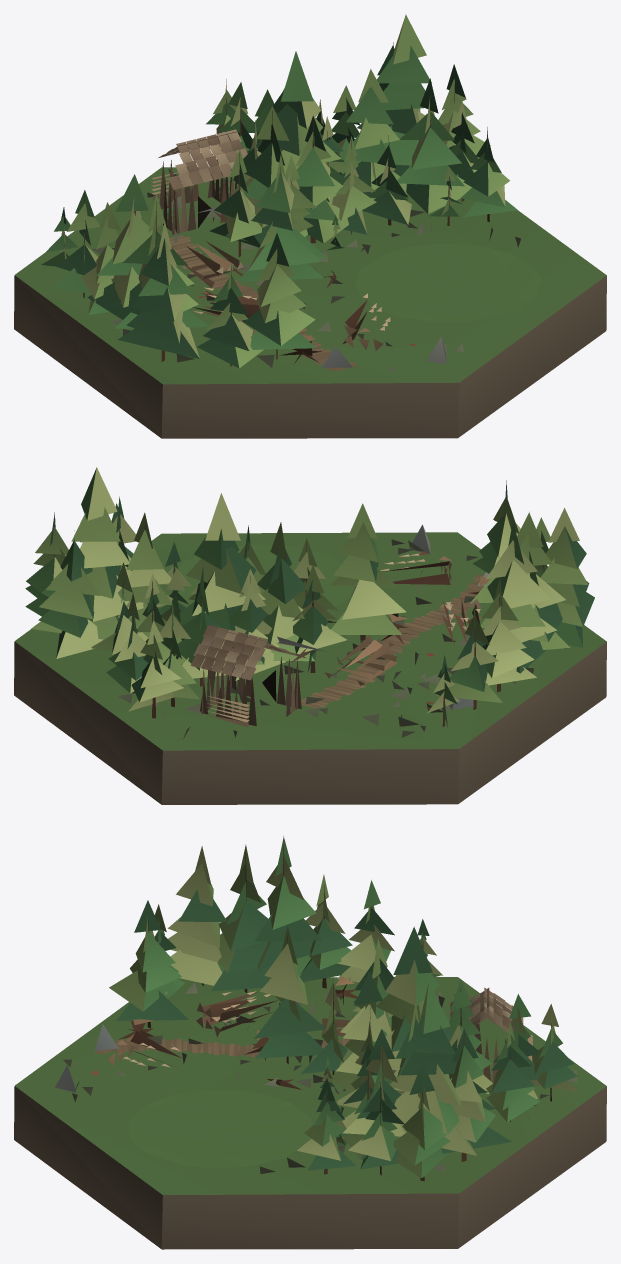
File: tile_timber_lod1.glb
The picture shows the model from 3 angles, top to bottom: view 1: azimuth 30°, elevation 25°; view 2: azimuth 150°, elevation 25°; view 3: azimuth 270°, elevation 25°; orthographic projection.
Visible parts, largest first — view 1: tile_timber_LOD1; view 2: tile_timber_LOD1; view 3: tile_timber_LOD1.
Boxes of the visible parts, left/top/right/bottom form: tile_timber_LOD1: left=14, top=14, right=606, bottom=438; tile_timber_LOD1: left=14, top=467, right=606, bottom=804; tile_timber_LOD1: left=14, top=836, right=606, bottom=1249.
Size of the model in its own units: 1.8 by 0.8685 by 1.98.
